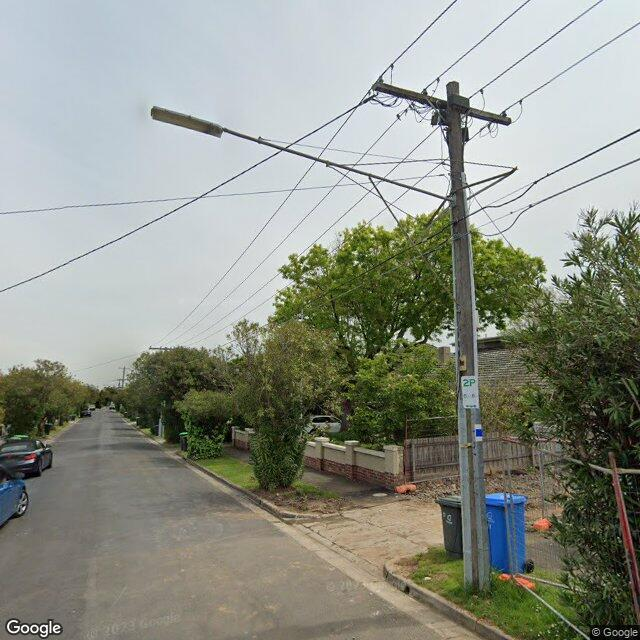crossarm: (359, 62, 523, 142)
streetlight: (151, 106, 456, 204)
timber-pole: (447, 80, 491, 592)
